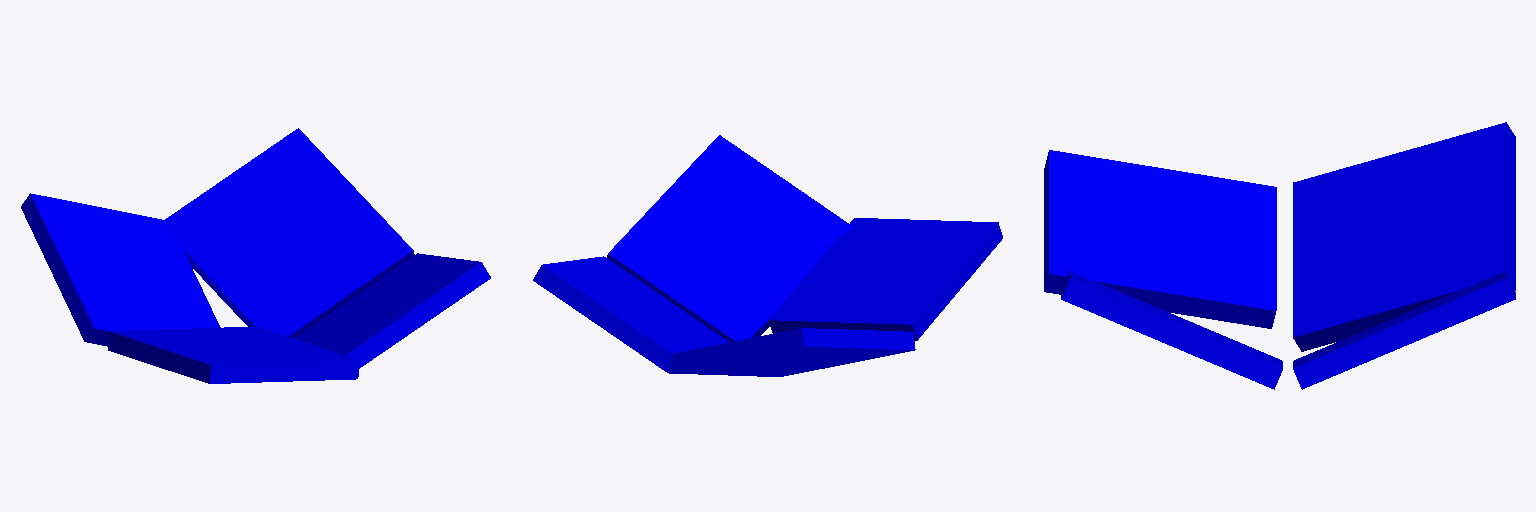
The robot description file, URDF, robot "bolt.urdf":
<?xml version="0.0" ?>
<robot name="bolt.urdf">
  <link name="base">
    <visual>
      <origin rpy="-0.2 0.2 0" xyz="0 0 0.0"/>
      <geometry>
        <box size=".18 .2 0.02"/>
      </geometry>
      <material name="blue">
      </material>
    </visual>
    <collision>
      <origin rpy="-0.2 0.2 0" xyz="0 0 0.0"/>
      <geometry>
        <box size=".18 .2 0.02"/>
      </geometry>
    </collision>
  </link>
  <joint name="joint1" type="fixed">
    <origin rpy="0 0 0" xyz=".095 0.0 0.0"/>
    <parent link="base"/>
    <child link="top"/>
    <axis xyz="0 1 0"/>
  </joint>
  <link name="top">
    <visual>
      <origin rpy="-0.4 -0.4 0" xyz=".09 .01 0.00"/>
      <geometry>
        <box size=".18 .2 0.02"/>
      </geometry>
      <material name="blue">
      </material>
    </visual>
    <collision>
      <origin rpy="-0.4 -0.4 0" xyz="0.09 0 0.0"/>
      <geometry>
        <box size=".18 .2 0.02"/>
      </geometry>
    </collision>
  </link>

  <joint name="joint2" type="fixed">
    <origin rpy="0 0 0" xyz="-.095 0.2 0.0"/>
    <parent link="base"/>
    <child link="side1"/>
    <axis xyz="0 1 0"/>
  </joint>
  <link name="side1">
    <visual>
      <origin rpy="0.4 0.4 0" xyz=".09 .01 0.00"/>
      <geometry>
        <box size=".18 .2 0.02"/>
      </geometry>
      <material name="blue">
      </material>
    </visual>
    <collision>
      <origin rpy="0.4 0.4 0" xyz="0.09 0 0.0"/>
      <geometry>
        <box size=".18 .2 0.02"/>
      </geometry>
    </collision>
  </link>

  <joint name="joint3" type="fixed">
    <origin rpy="0 0 0" xyz=".095 0.2 0.0"/>
    <parent link="base"/>
    <child link="side2"/>
    <axis xyz="0 1 0"/>
  </joint>
  <link name="side2">
    <visual>
      <origin rpy="0.4 -0.4 0" xyz=".09 .01 0.00"/>
      <geometry>
        <box size=".18 .2 0.02"/>
      </geometry>
      <material name="blue">
      </material>
    </visual>
    <collision>
      <origin rpy="0.4 -0.4 0" xyz="0.09 0 0.0"/>
      <geometry>
        <box size=".18 .2 0.02"/>
      </geometry>
    </collision>
  </link>


  <material name="panda_white">
    <color rgba="1. 1. 1. 1."/>
  </material>
  <material name="red">
    <color rgba="1.0 0. 0. 1.0"/>
  </material>
  <material name="blue">
    <color rgba="0. 0. 1. 1.0"/>
  </material>
  <material name="green">
    <color rgba="0. 1. 0. 1.0"/>
  </material>

</robot>

--- Facts derived from the render (not from the file) ---
3 views of the same robot in one strip: view 1: azimuth 30°, elevation 25°; view 2: azimuth 150°, elevation 25°; view 3: azimuth 270°, elevation 25° (orthographic).
Model bolt.urdf with 4 links and 3 joints (3 fixed), rooted at base, posed every joint at zero.
Visible links, largest first — view 1: side2, side1, base, top; view 2: top, base, side2, side1; view 3: side1, base, side2, top.
Link boxes in pixels (x1,y1,x2,y2): side2: (165, 128, 414, 337); side1: (21, 193, 220, 346); base: (108, 326, 359, 383); top: (294, 253, 490, 368); top: (607, 135, 853, 341); base: (769, 218, 1002, 340); side2: (533, 256, 728, 372); side1: (669, 328, 915, 376); side1: (1293, 122, 1515, 351); base: (1044, 150, 1276, 328); side2: (1293, 271, 1515, 389); top: (1061, 271, 1282, 389).
Size in the robot's own frame: 0.3933 by 0.406 by 0.1588 metres.
Geometry: primitives only (box / cylinder / sphere), no mesh files.